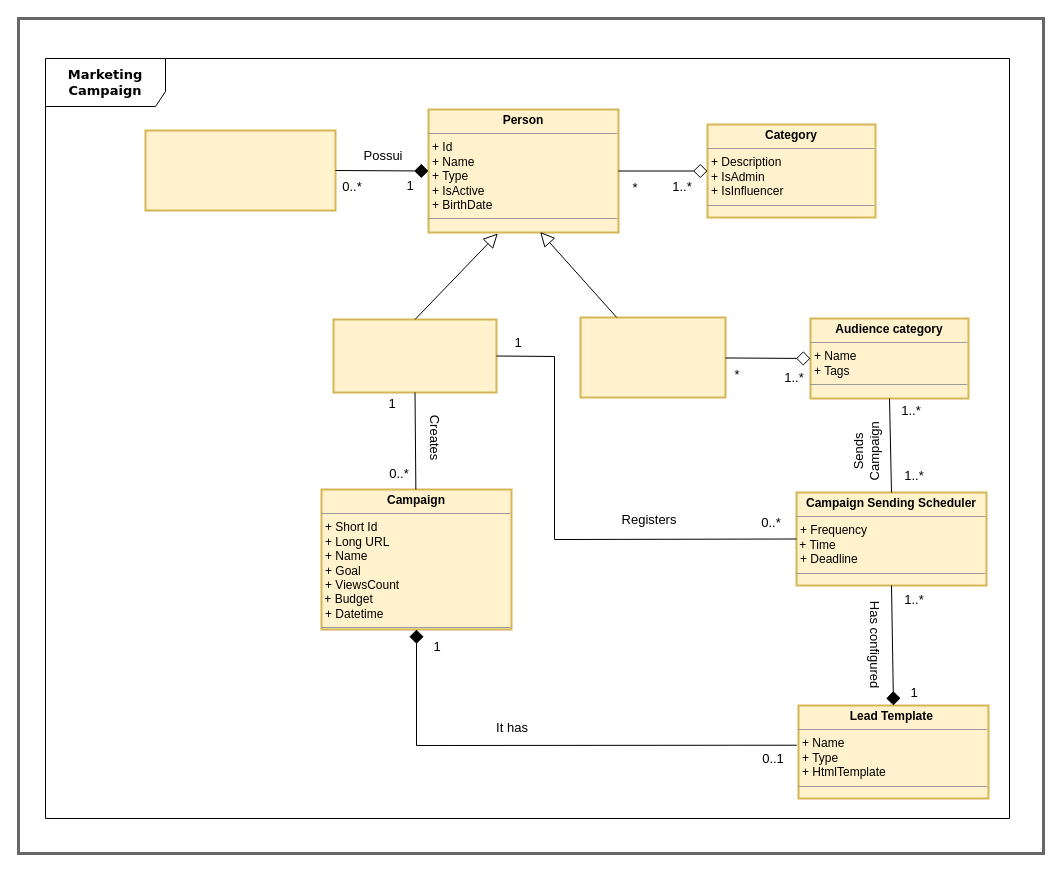
This 1062x872 diagram has some shape labels left out. The box of each missing label's shape, as (x1, y1, x2, y2) in pixels:
Audience + City + State: (579, 316, 726, 398)
Communication channel + TypeDescription + IdentifierValue: (144, 129, 336, 211)
System Users + LastLogin: (332, 318, 497, 393)
